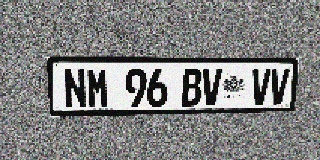6: (147, 68, 168, 107)
9: (126, 68, 147, 107)
B: (182, 69, 202, 106)
M: (86, 68, 109, 108)
N: (63, 68, 87, 109)
V: (201, 69, 222, 106), (250, 69, 271, 105), (269, 69, 290, 105)
